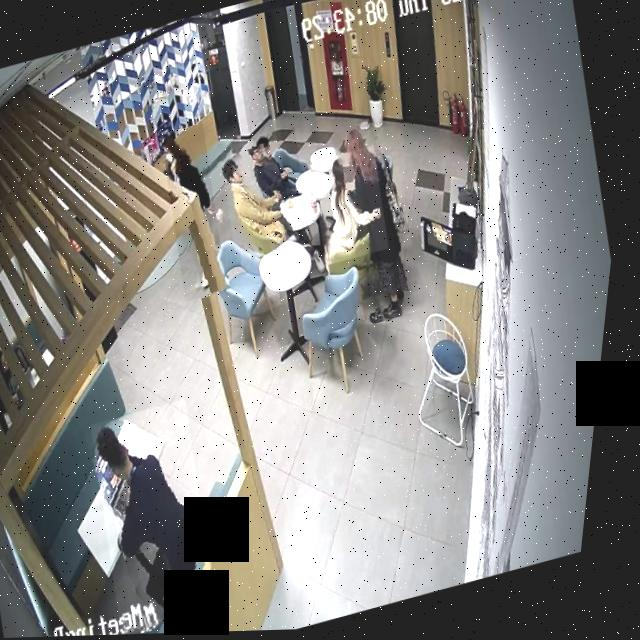person: (82, 398, 247, 637), (323, 115, 445, 330), (150, 123, 247, 304), (306, 147, 403, 268), (215, 141, 307, 264), (250, 128, 314, 207)
